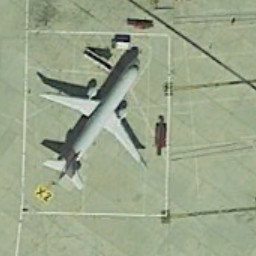Airplane: (27, 47, 152, 203)
